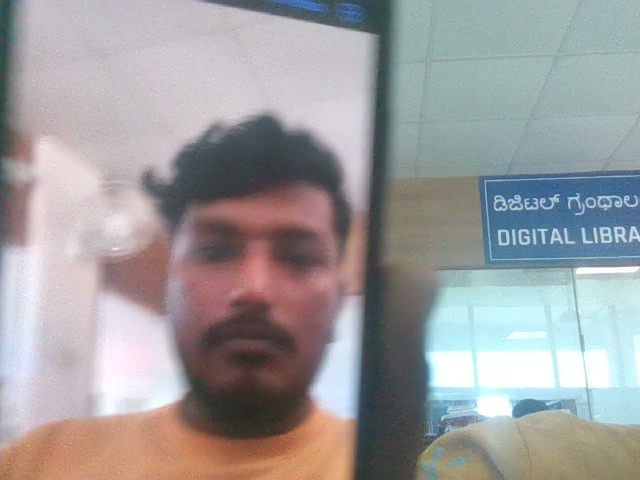fake: (137, 88, 377, 428)
